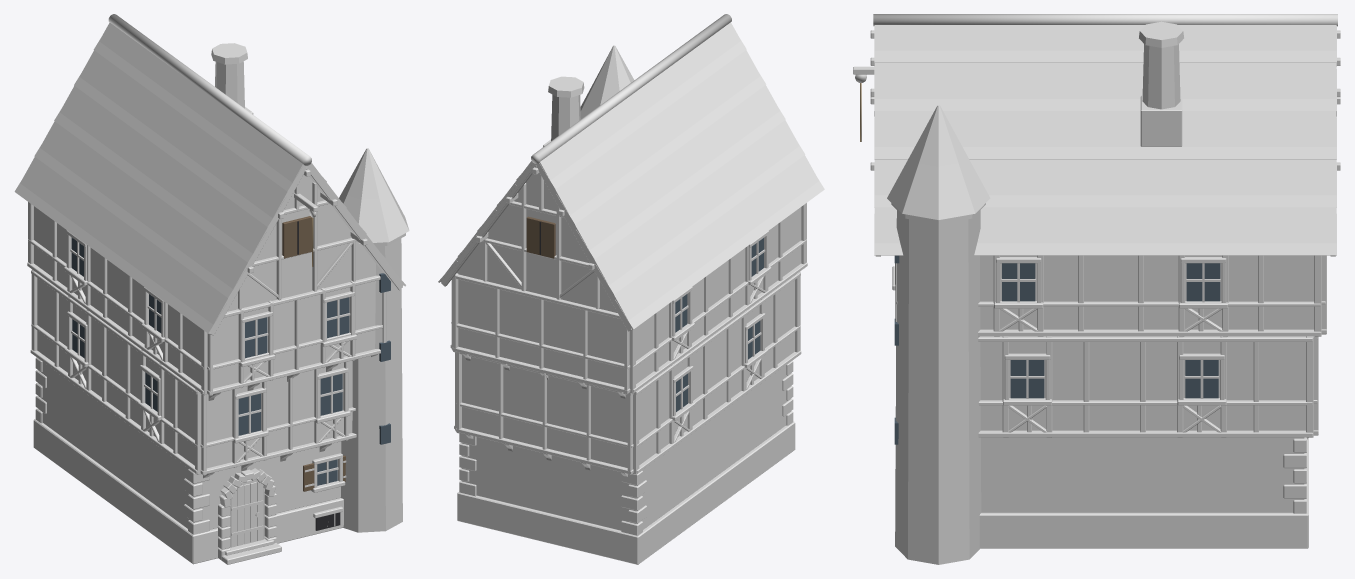
The model's file is ville_08_pignon_tourelle.fbx.
3 renders of one model, left to right at view 1: azimuth 30°, elevation 25°; view 2: azimuth 150°, elevation 25°; view 3: azimuth 270°, elevation 25°, orthographic. The views are drawn at different scales.
Visible parts, largest first — view 1: ville_08_pignon_tourelle_LOD0; view 2: ville_08_pignon_tourelle_LOD0; view 3: ville_08_pignon_tourelle_LOD0.
Part boxes in pixels (x1,y1,x2,y2): ville_08_pignon_tourelle_LOD0: (14,14,409,564); ville_08_pignon_tourelle_LOD0: (438,14,824,564); ville_08_pignon_tourelle_LOD0: (853,14,1340,564).
Size of what is drawn, in the model's own units: 6.79 by 11.88 by 10.72.
